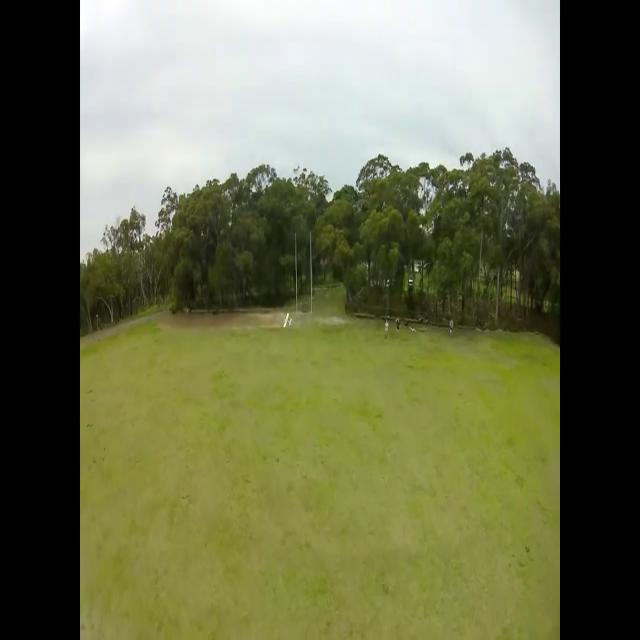iha: (286, 314, 290, 330)
